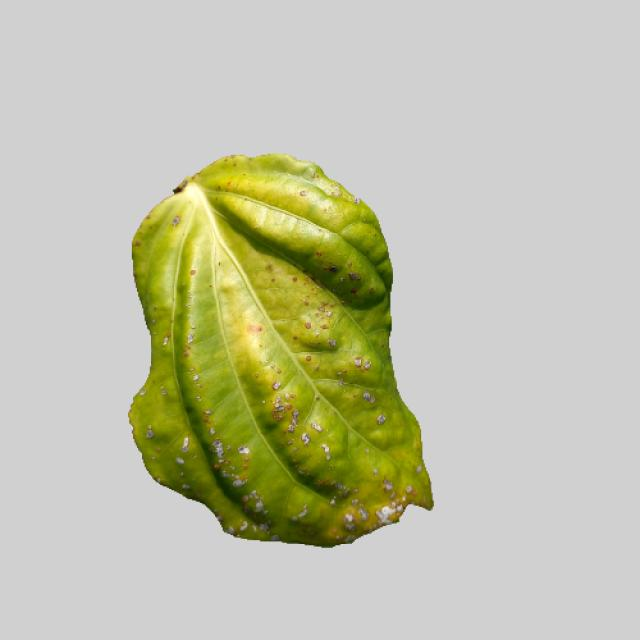yellow-mottle-virus: (119, 155, 440, 544)
